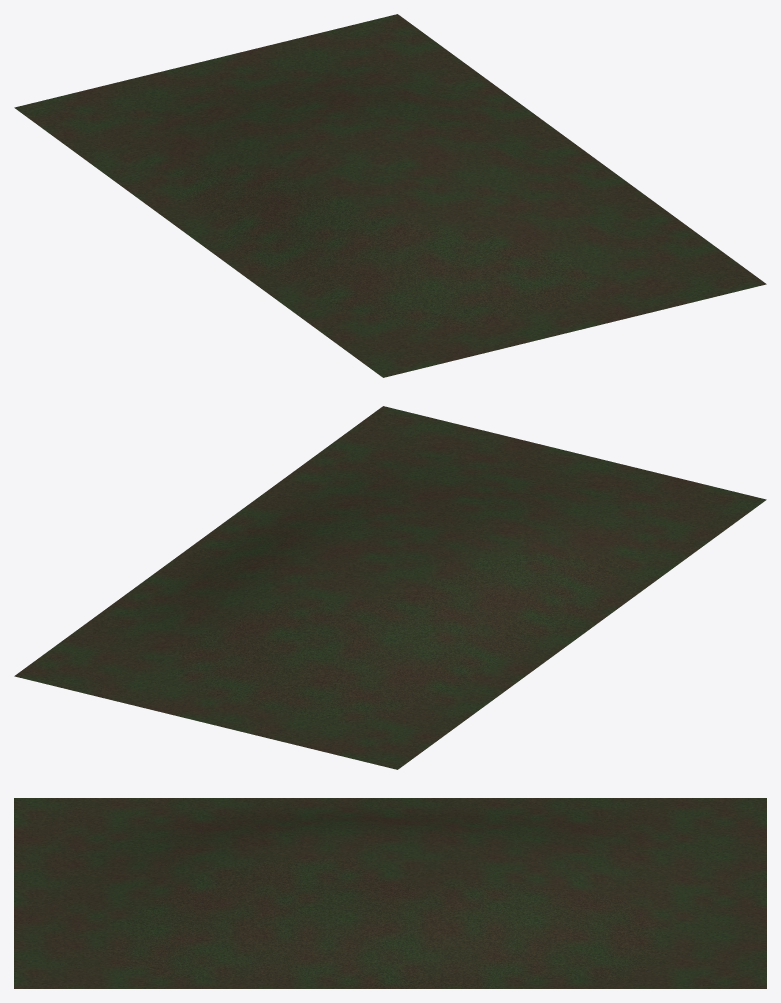
File: road-bank-24m.glb
3 views of the same model, one above another, from view 1: azimuth 30°, elevation 25°; view 2: azimuth 150°, elevation 25°; view 3: azimuth 270°, elevation 25° (orthographic).
Parts seen in each view (by area): view 1: Walkable surface; view 2: Walkable surface; view 3: Walkable surface.
Boxes of the visible parts, x1,y1,x2,y2 form: Walkable surface: (14,14,766,377); Walkable surface: (14,406,766,769); Walkable surface: (14,798,766,988).
Size of the model in its own units: 24 by 1.69 by 40.
Materials: 1 (1 with a texture image).
